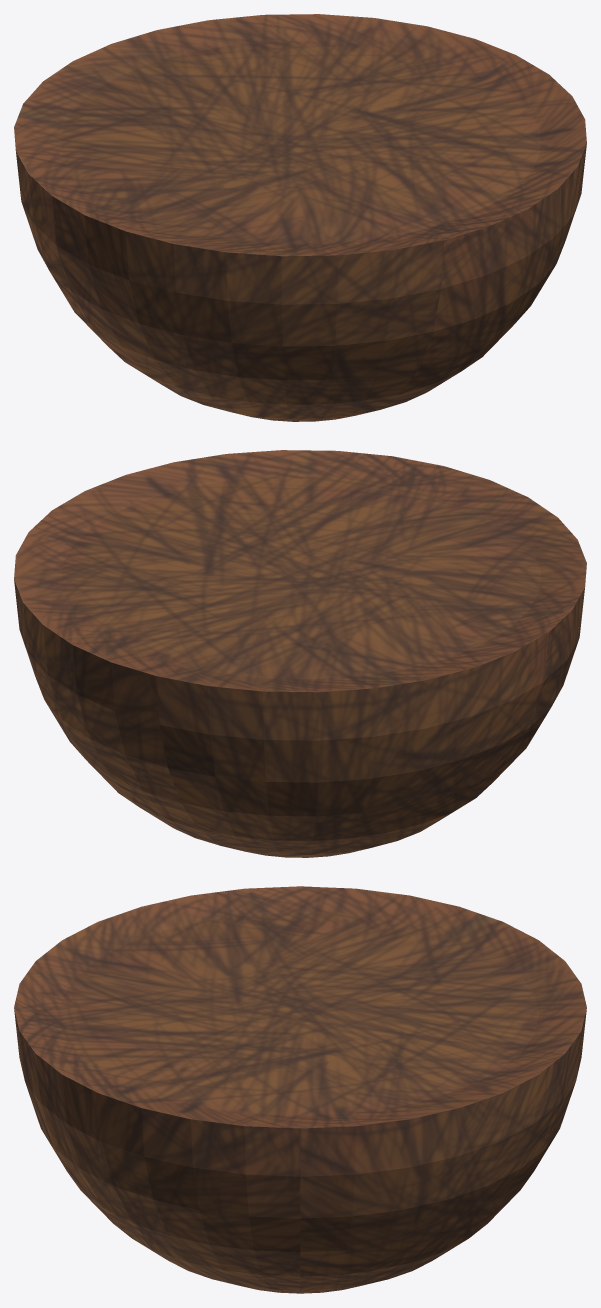
Rendered from Nest.fbx.
3 views of the same model, one above another, from view 1: azimuth 30°, elevation 25°; view 2: azimuth 150°, elevation 25°; view 3: azimuth 270°, elevation 25° (orthographic).
Parts seen in each view (by area): view 1: Sphere; view 2: Sphere; view 3: Sphere.
Part boxes in pixels (<box>): Sphere: <box>14,14,586,421</box>; Sphere: <box>14,450,586,857</box>; Sphere: <box>14,886,586,1293</box>.
Bounding box in the file's own units: 5000 × 2500 × 5000.
1 material, 1 textured.
